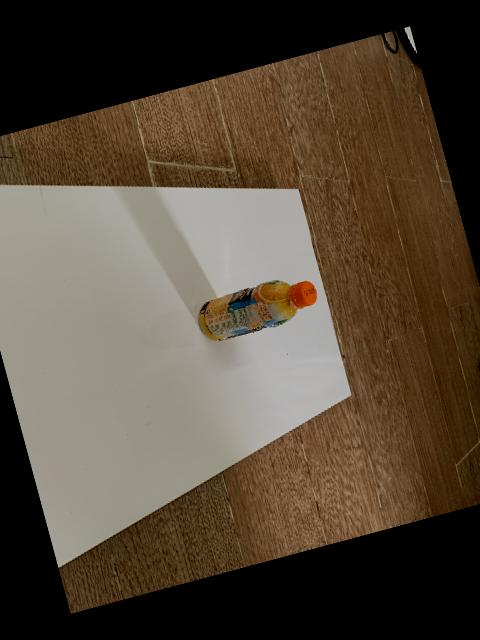teppy_orange_juice: (194, 280, 316, 343)
